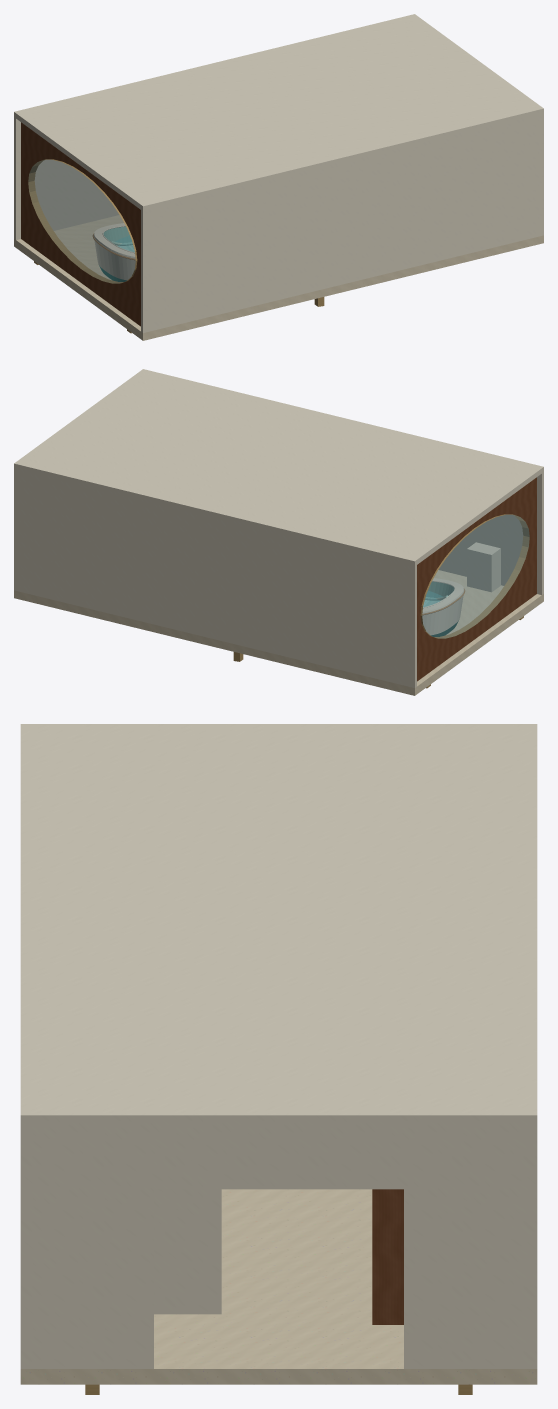
Rendered from NightGardenD15Specialty_422_r002.glb.
3 renders of one model, top to bottom at view 1: azimuth 30°, elevation 25°; view 2: azimuth 150°, elevation 25°; view 3: azimuth 270°, elevation 25°, orthographic. The views are drawn at different scales.
Parts seen in each view (by area): view 1: NG422_RuntimeBatch_001, NG422_OvalAtriumGlass, NG422_RoomFloor, NG422_RuntimeBatch_002, NG422_ReservedRestSupport__Hollow continuous basin shell wit, NG422_RuntimeBatch_004; view 2: NG422_RuntimeBatch_001, NG422_OvalAtriumGlass, NG422_RoomFloor, NG422_RuntimeBatch_002, NG422_ReservedRestSupport__Hollow continuous basin shell wit, NG422_RuntimeBatch_004; view 3: NG422_RuntimeBatch_001, NG422_RoomFloor, NG422_RuntimeBatch_002.
Boxes of the visible parts, x1,y1,x2,y2 form: NG422_RuntimeBatch_001: (14, 14, 543, 332); NG422_OvalAtriumGlass: (28, 160, 135, 283); NG422_RoomFloor: (14, 215, 543, 340); NG422_RuntimeBatch_002: (21, 122, 140, 326); NG422_ReservedRestSupport__Hollow continuous basin shell wit: (93, 223, 135, 281); NG422_RuntimeBatch_004: (28, 159, 324, 333); NG422_RuntimeBatch_001: (14, 369, 543, 687); NG422_OvalAtriumGlass: (422, 515, 529, 638); NG422_RoomFloor: (14, 570, 543, 695); NG422_RuntimeBatch_002: (417, 477, 536, 681); NG422_ReservedRestSupport__Hollow continuous basin shell wit: (422, 578, 464, 636); NG422_RuntimeBatch_004: (233, 514, 529, 688); NG422_RuntimeBatch_001: (20, 724, 537, 1368); NG422_RoomFloor: (20, 1189, 537, 1384); NG422_RuntimeBatch_002: (372, 1189, 403, 1324).
Bounding box in the file's own units: 12.9 × 4.91 × 7.2.
Materials: 61 (43 with a texture image).
